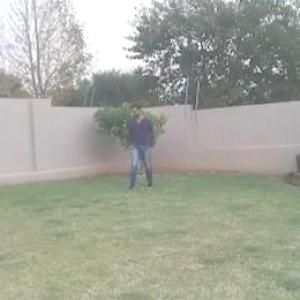follow: (126, 97, 154, 194)
